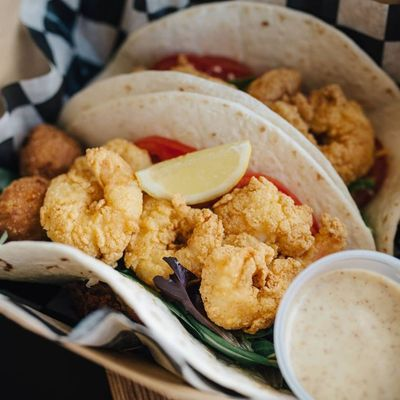sushi: (5, 61, 376, 382), (273, 248, 400, 400)
taco: (135, 140, 251, 207)
